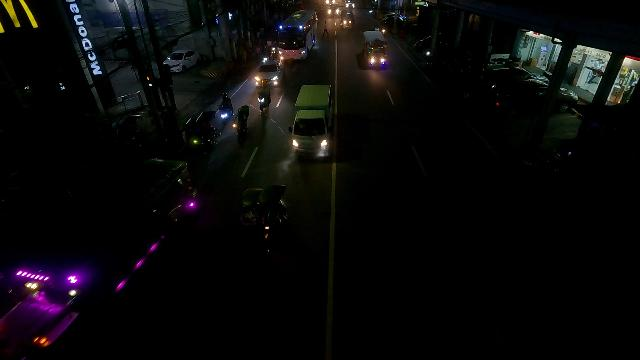bus: (276, 8, 318, 64)
car: (162, 49, 199, 73), (253, 59, 283, 88)
jeepney: (362, 28, 389, 71), (339, 9, 355, 29)
motorcycle: (218, 91, 234, 128), (256, 82, 273, 114), (234, 114, 249, 143)
van: (286, 82, 334, 163)
